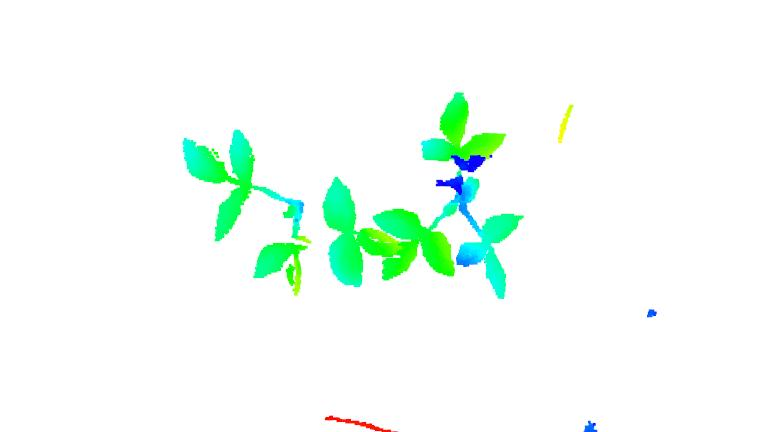mungbean: (374, 86, 530, 304), (177, 135, 384, 293)
